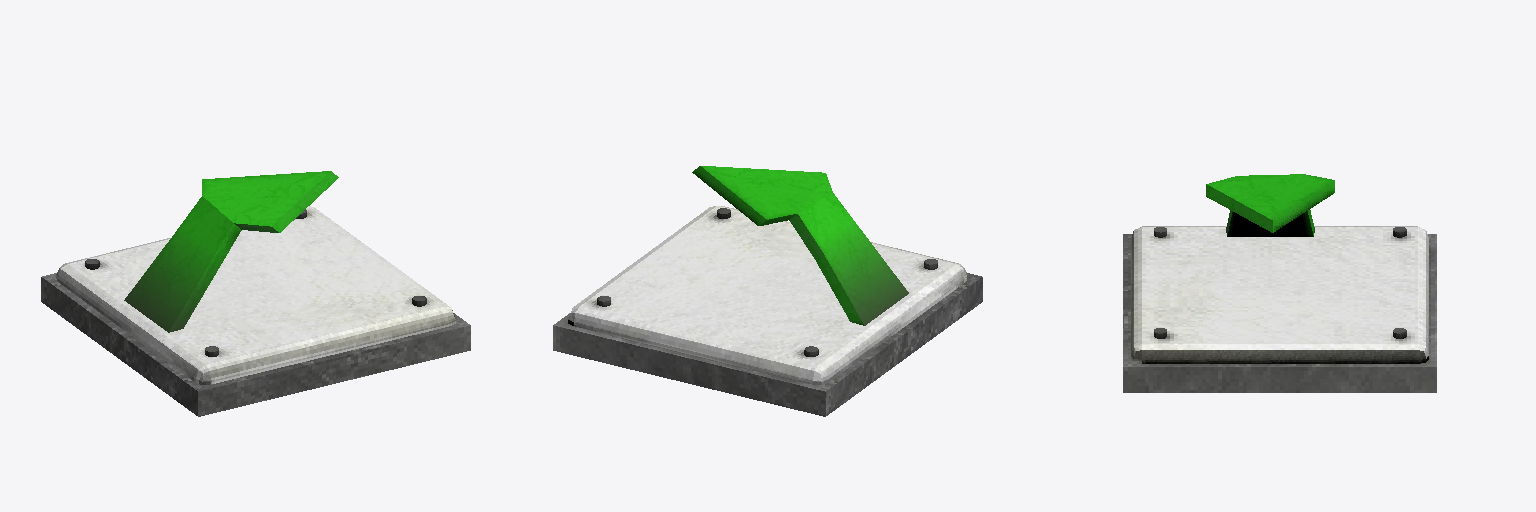
3 views of the same model, side by side, from view 1: azimuth 30°, elevation 25°; view 2: azimuth 150°, elevation 25°; view 3: azimuth 270°, elevation 25° (orthographic).
Parts seen in each view (by area): view 1: ColorChang, cylinder, Line06; view 2: ColorChang, cylinder, Line06; view 3: ColorChang, cylinder, Line06.
Boxes of the visible parts, x1=… form: ColorChang: x1=56, y1=206, x2=455, y2=384; cylinder: x1=41, y1=209, x2=470, y2=416; Line06: x1=124, y1=171, x2=338, y2=332; ColorChang: x1=568, y1=206, x2=967, y2=384; cylinder: x1=553, y1=208, x2=982, y2=416; Line06: x1=692, y1=166, x2=908, y2=325; ColorChang: x1=1131, y1=226, x2=1428, y2=363; cylinder: x1=1123, y1=227, x2=1436, y2=392; Line06: x1=1206, y1=174, x2=1334, y2=236.
Bounding box in the file's own units: 1.06 × 0.5208 × 1.06.
1 materials, 1 textured.